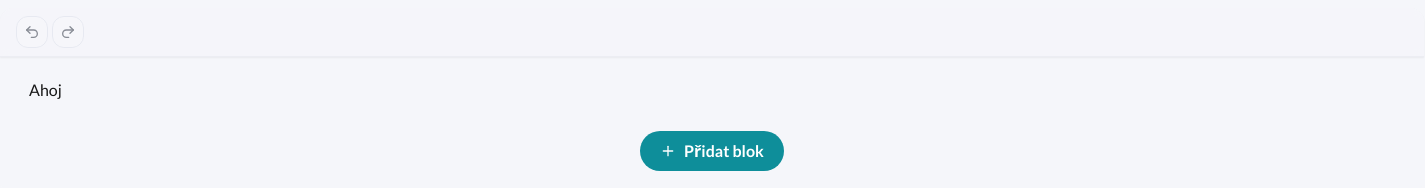
Test case: WYSIWYG editor lekce › hover zobrazí plovoucí lištu s úchytem, výběrem a menu
This screenshot has width=1425, height=188.
Step 1. Hover over the element showing "Ahoj" → point(45, 90), box [29, 80, 62, 99]
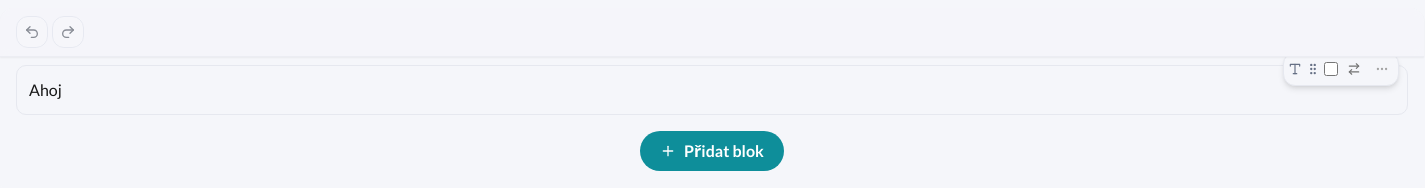
Now the checkbox named "Vybrat blok Text" is shown, box [1324, 62, 1338, 76]
Now the button named "Možnosti bloku Text" is shown, box [1370, 57, 1394, 81]
